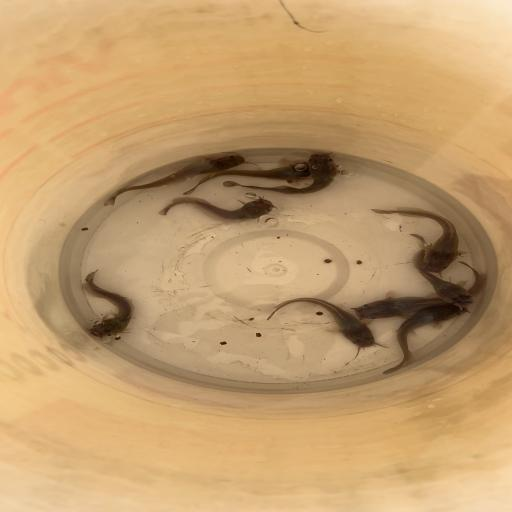lele: (351, 261, 483, 320), (103, 154, 246, 206), (365, 201, 465, 274), (380, 302, 470, 375), (266, 296, 379, 352), (406, 231, 476, 309), (222, 152, 342, 195), (171, 161, 312, 196), (75, 269, 137, 340), (152, 194, 278, 222)
